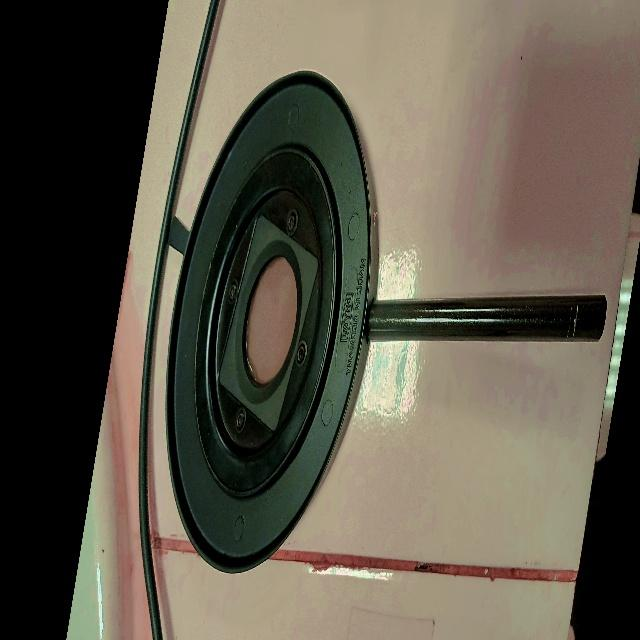Optical Polarizer: (113, 20, 640, 627)
